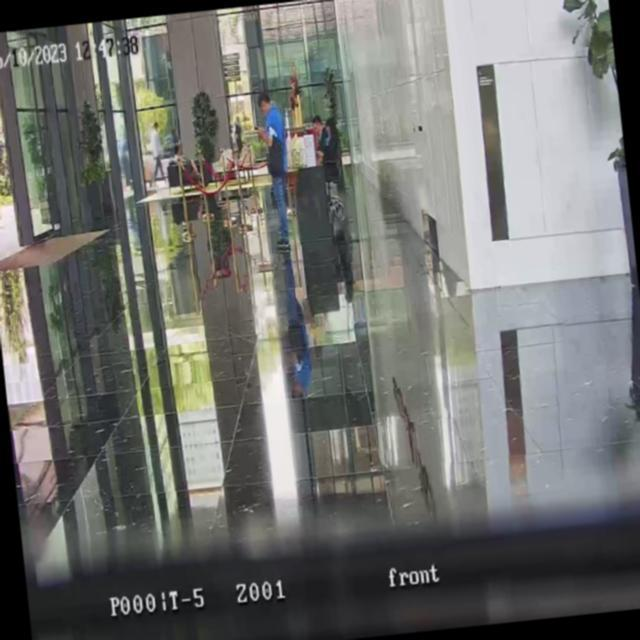person: (252, 88, 296, 246), (314, 115, 344, 184), (146, 120, 168, 183), (230, 114, 246, 170), (311, 115, 330, 152), (172, 142, 187, 163)
